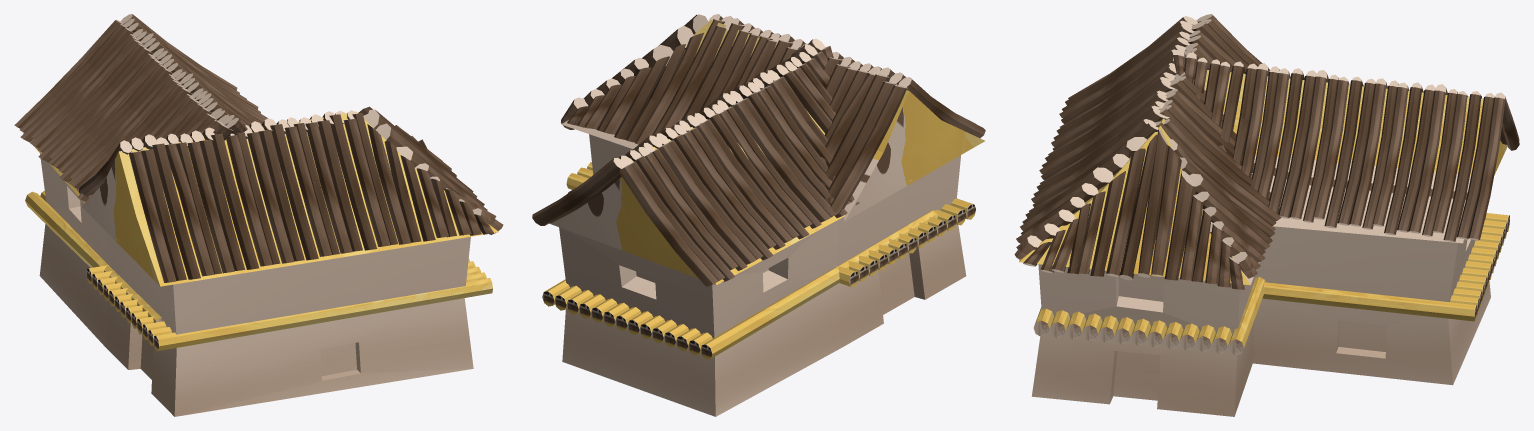
The model's file is house_3.fbx.
3 views of the same model, side by side, from view 1: azimuth 30°, elevation 25°; view 2: azimuth 150°, elevation 25°; view 3: azimuth 270°, elevation 25° (orthographic). The views are drawn at different scales.
Visible parts, largest first — view 1: house_3; view 2: house_3; view 3: house_3.
Part boxes in pixels (x1,y1,x2,y2): house_3: (14,14,503,416); house_3: (532,14,985,416); house_3: (1014,14,1519,416).
Size of the model in its own units: 355 by 249 by 424.
